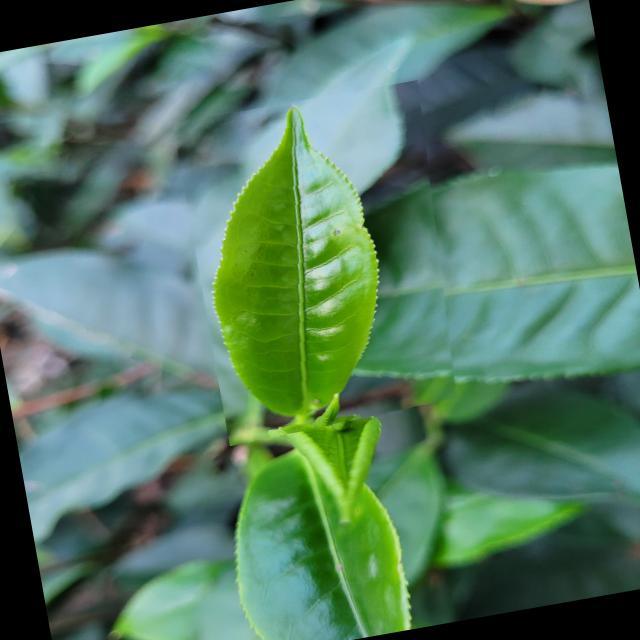Catagory A(1-2 days): (172, 80, 474, 447)
